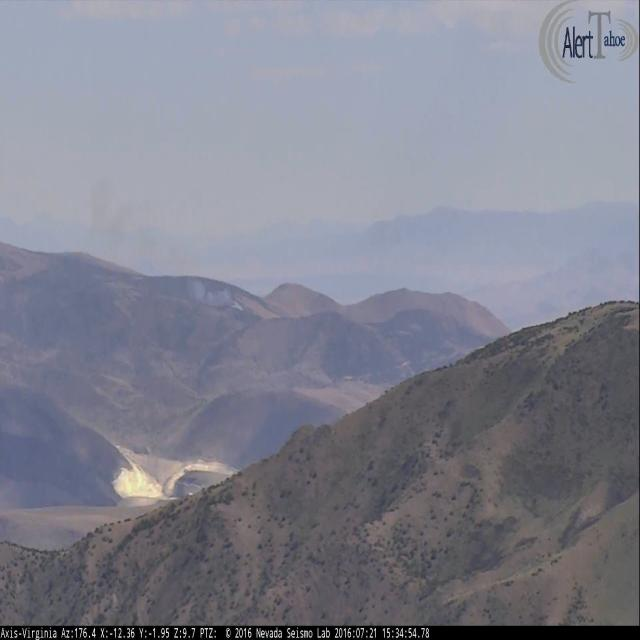smoke: (182, 272, 239, 315)
